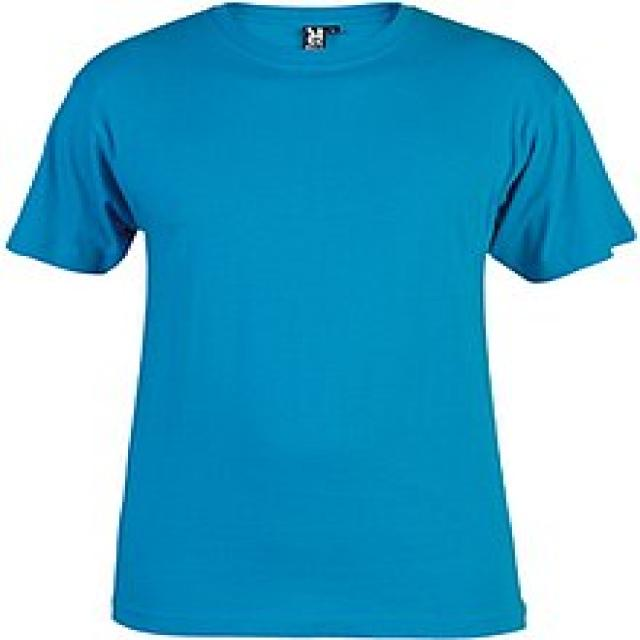shirt: (6, 3, 636, 636)
